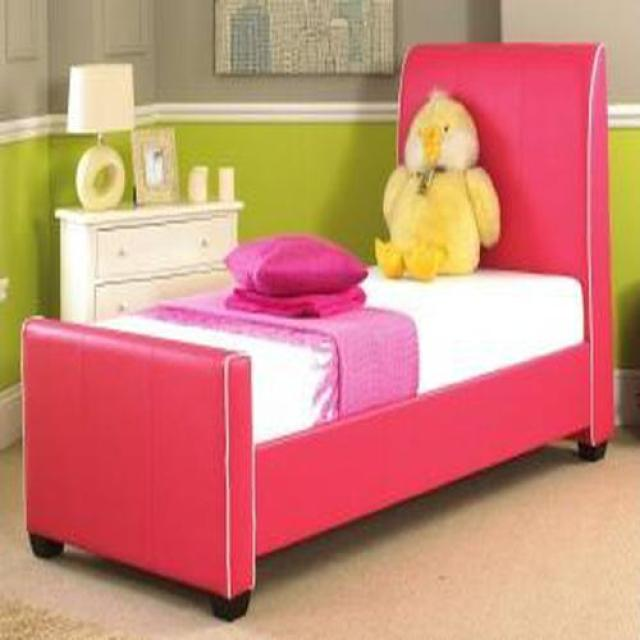bed: (23, 44, 616, 620)
table: (56, 201, 243, 325)
